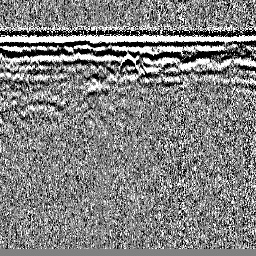cavity: (117, 52, 138, 73)
